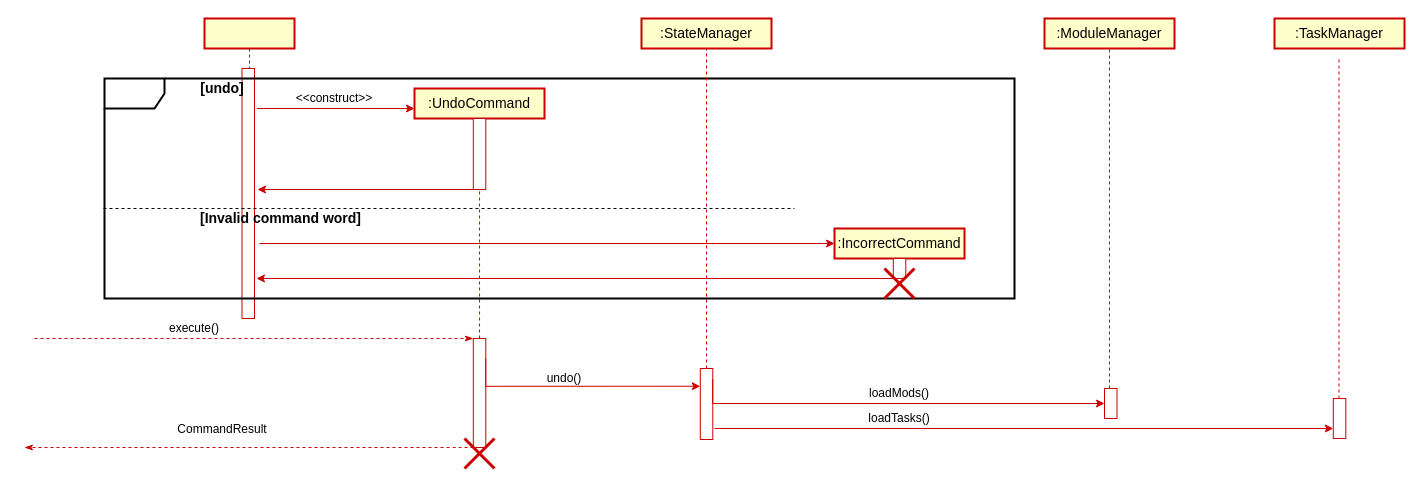
Some shapes in this 1423 by 488 pixel diagram are drawn without their labels. Here are the shapes that lost their labels. From the top down, the box of each, then its label:
(203, 17, 295, 49): :Parser
(103, 77, 1015, 299): alt
